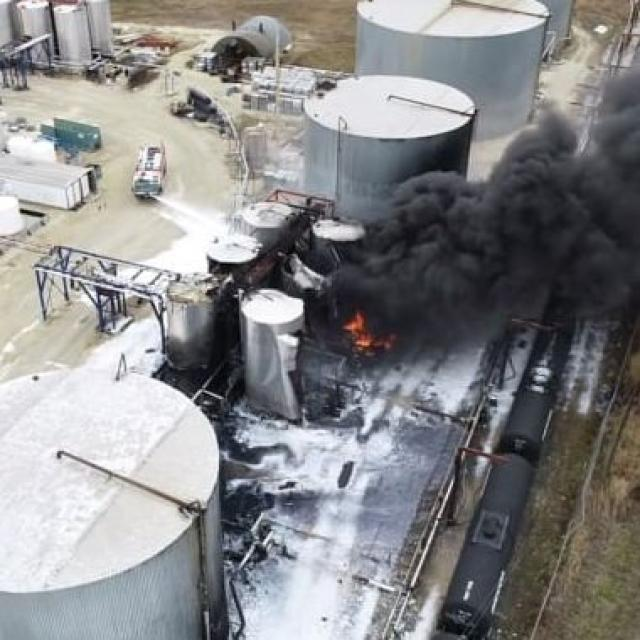Fire: (325, 307, 395, 354)
Smoke: (321, 119, 640, 358)
